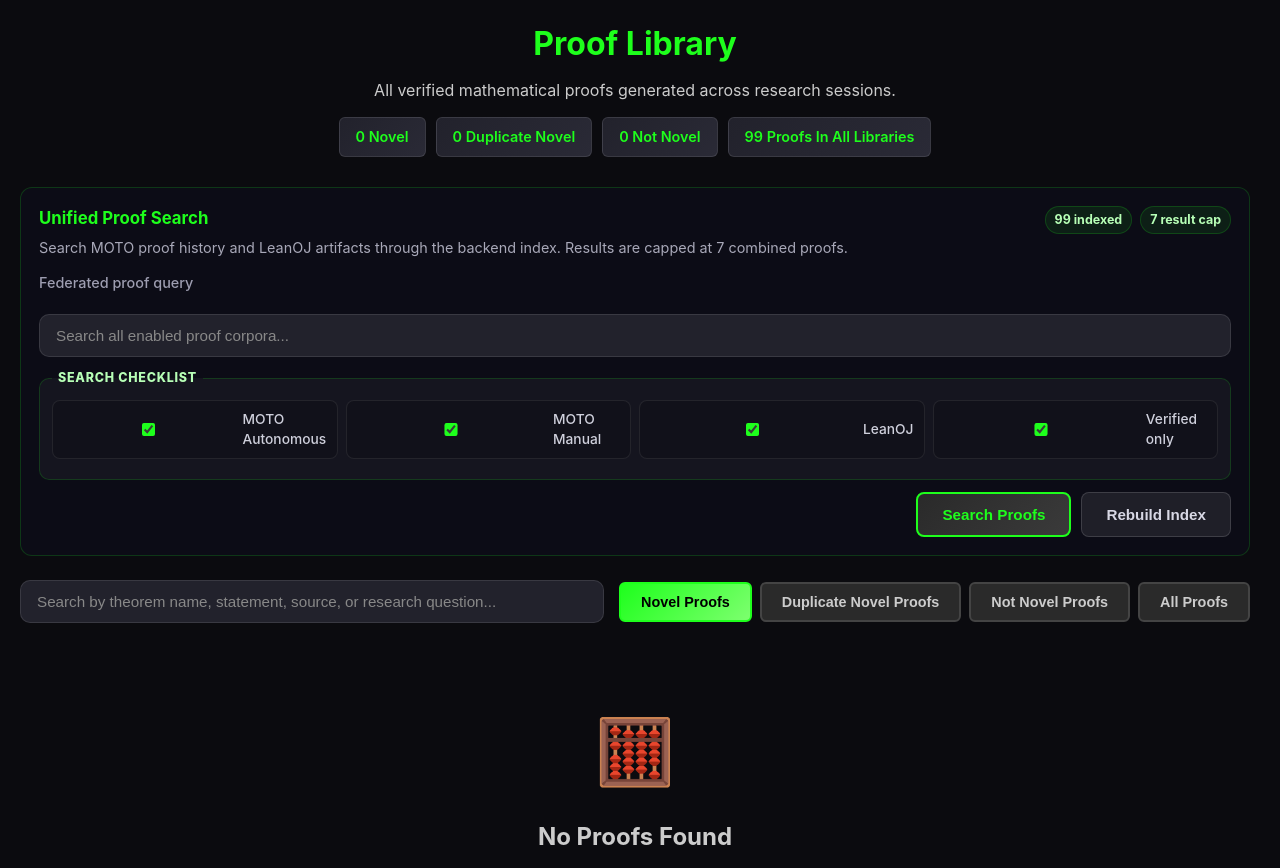
it: keeps proof-search errors visible and clears stale results
Check: the heading "Unified Proof Search" is shown, box 39,208 -> 208,228
What coordinates should you click on to do the following:
click the button "Search Proofs"
I would click on:
 (994, 514)
Its box is 916,492 -> 1071,537.
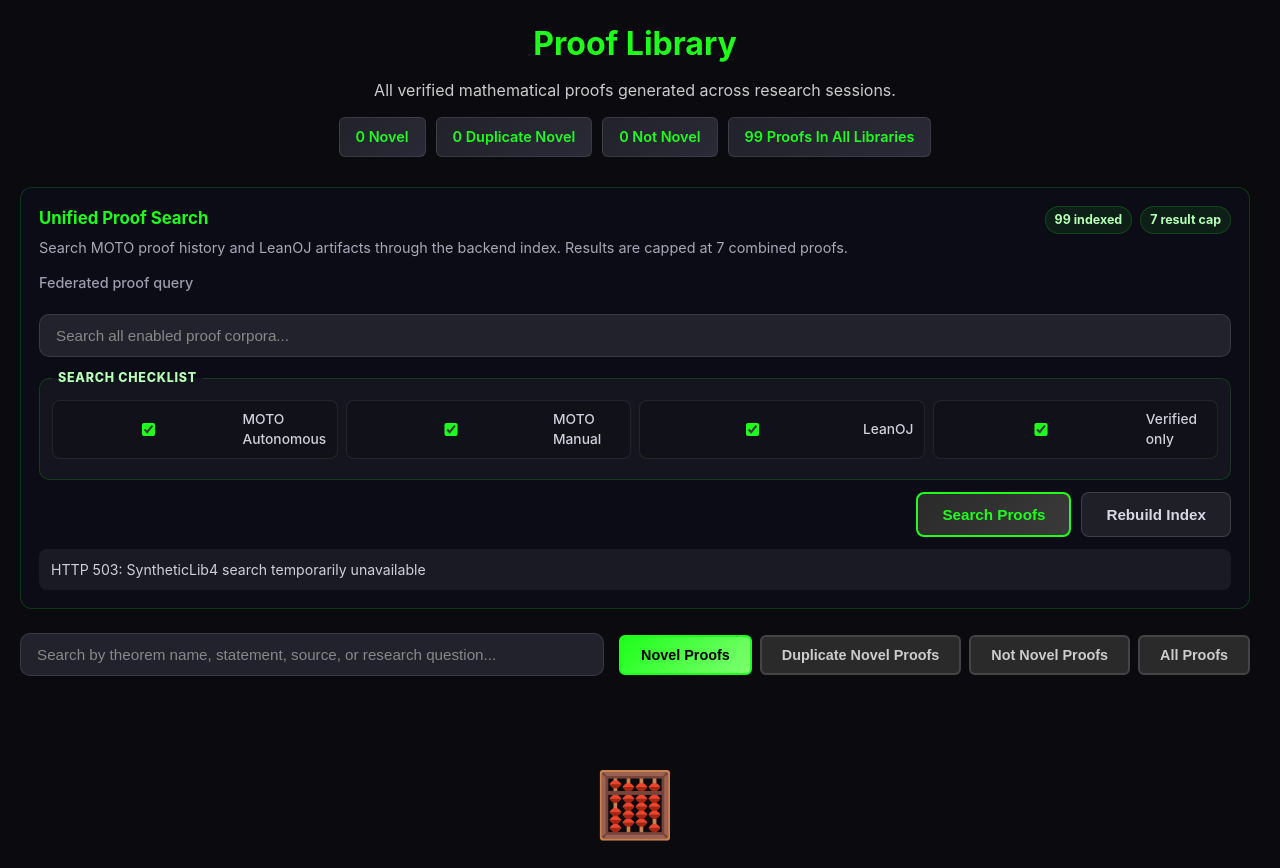
Check: the text "HTTP 503: SyntheticLib4 search temporarily unavailable" is shown, box 39,549 -> 1231,590
